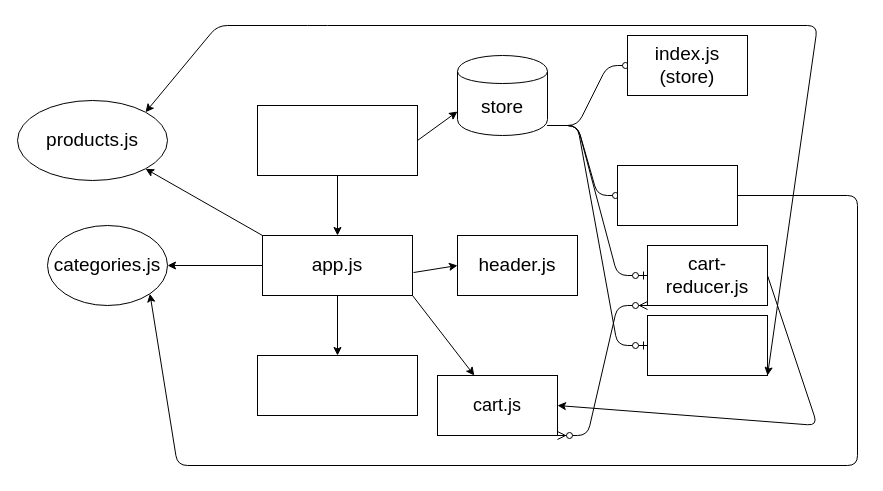
This 883x491 diagram has some shape labels left out. The shapes that lost their labels are listed below. From the top down, each one's centre as x and y in pixels, then its label:
At point (337, 140): "index.js".
At point (677, 195): "reduser.js".
At point (707, 345): "products-reducer.js".
At point (337, 385): "footer.js".
